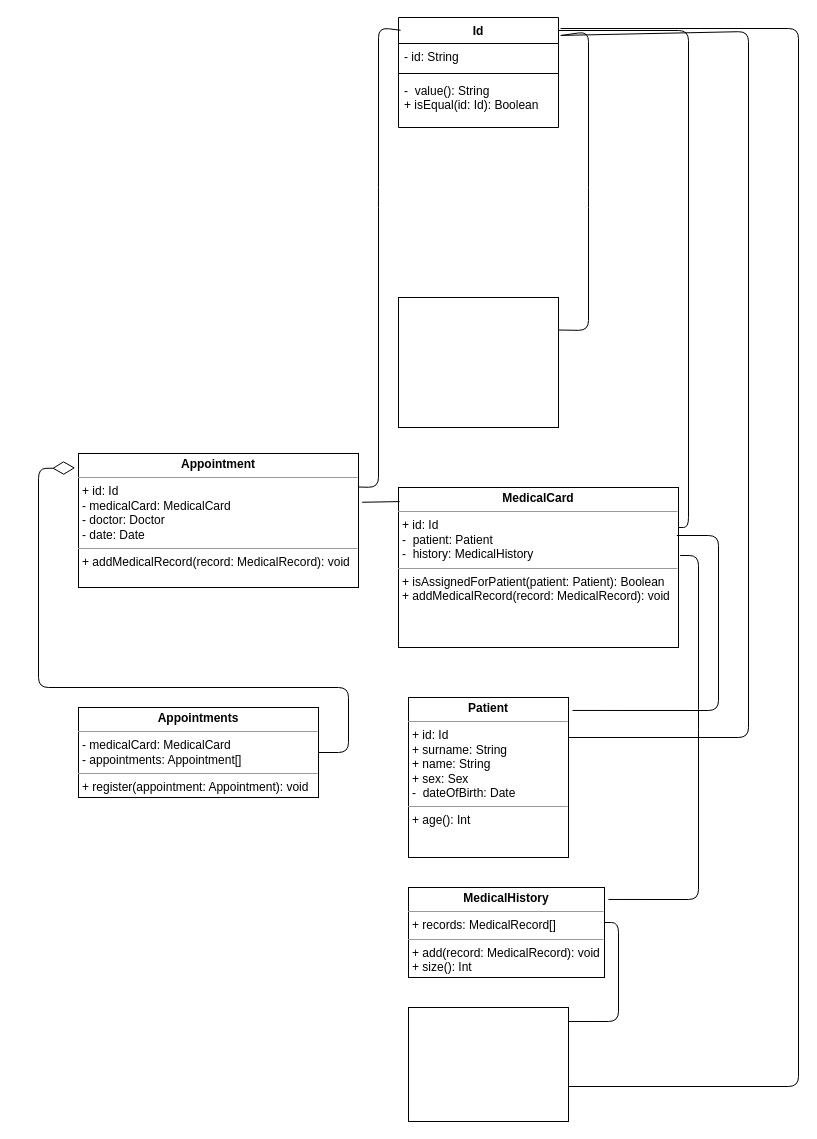
The diagram is 817 pixels wide and 1139 high, and some of its shapes have lost their labels. The shapes that lost their labels are listed below. From the top down, each one's centre as x and y in pixels, then its label:
At (x=478, y=362): "Doctor - id: Id - surname: String - name: String - office: Int".
At (x=488, y=1064): "MedicalRecord + id: Id + record: String + date: Date + doctorId: Id".
